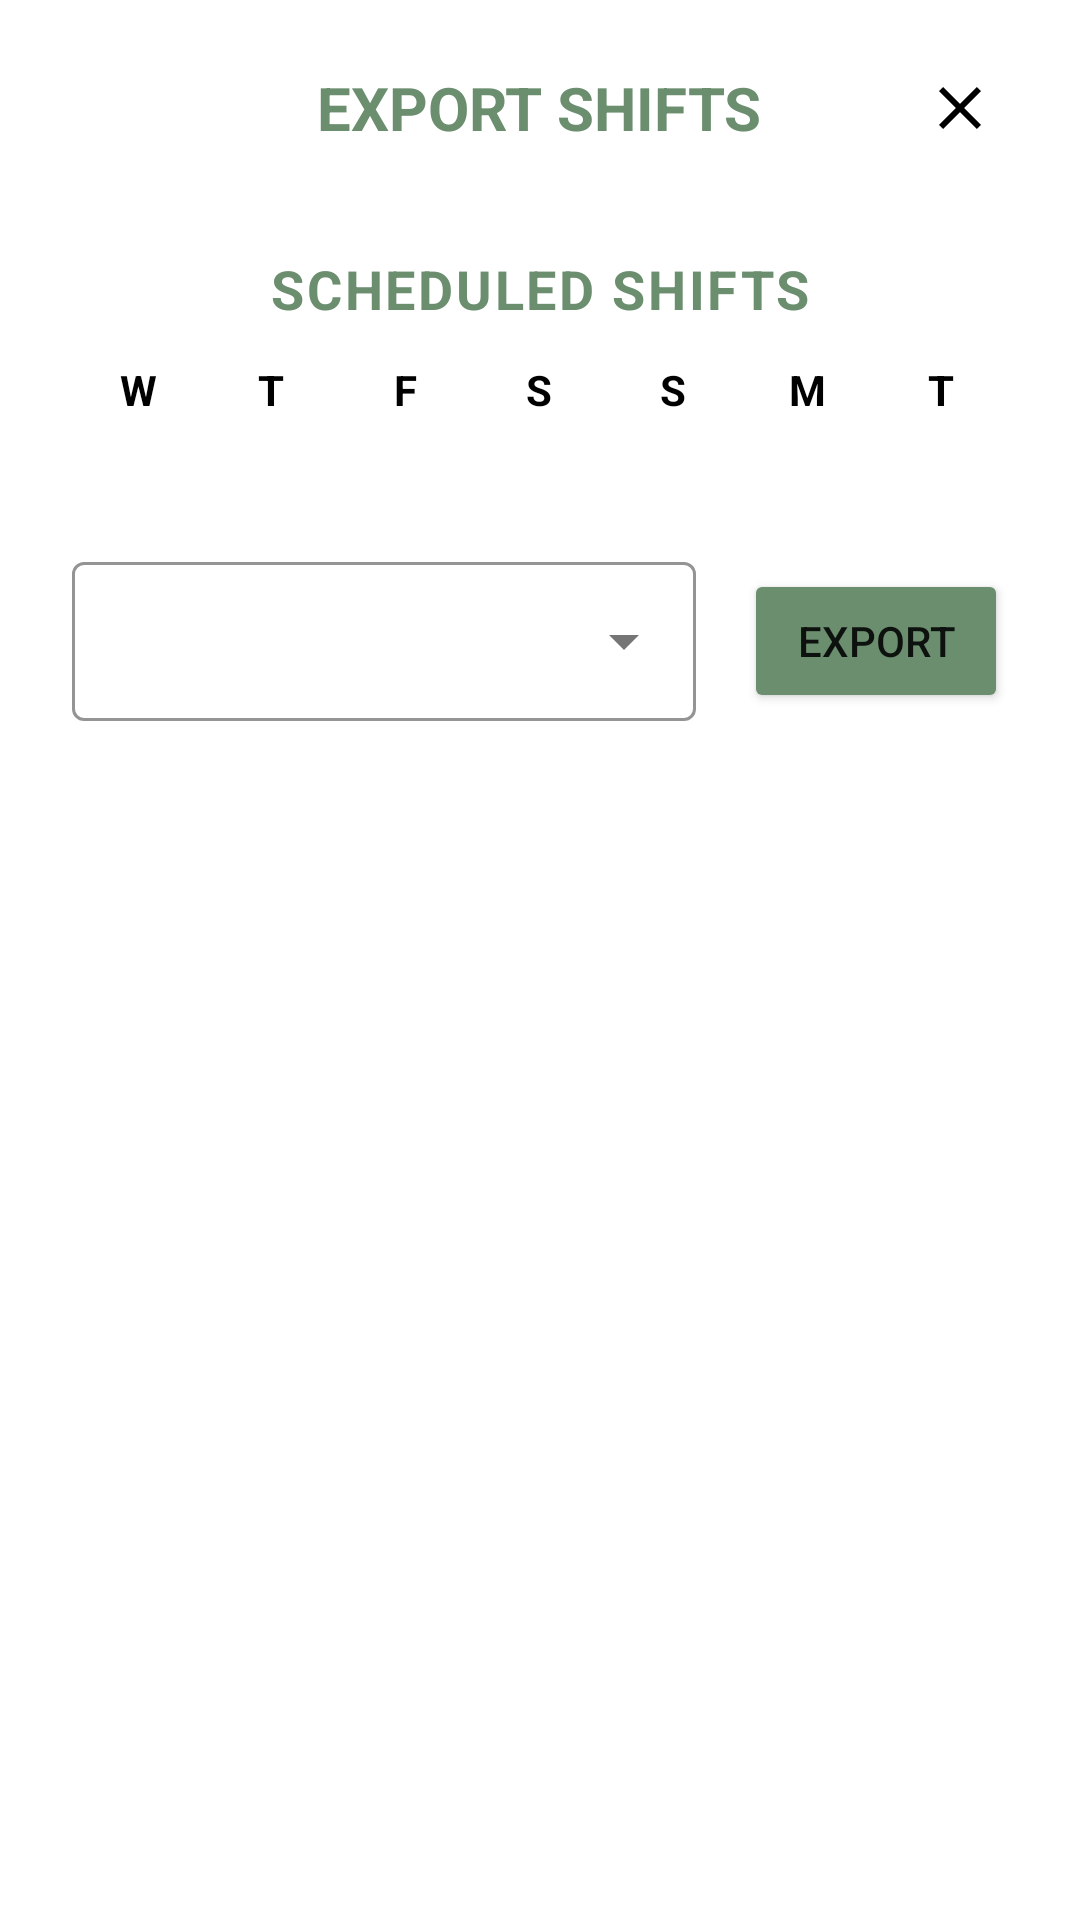

Screen size 1080px x 1920px. Icon name, then its box in pixels as (x1, y1, x2, y2):
Close: (939, 87, 981, 129)
